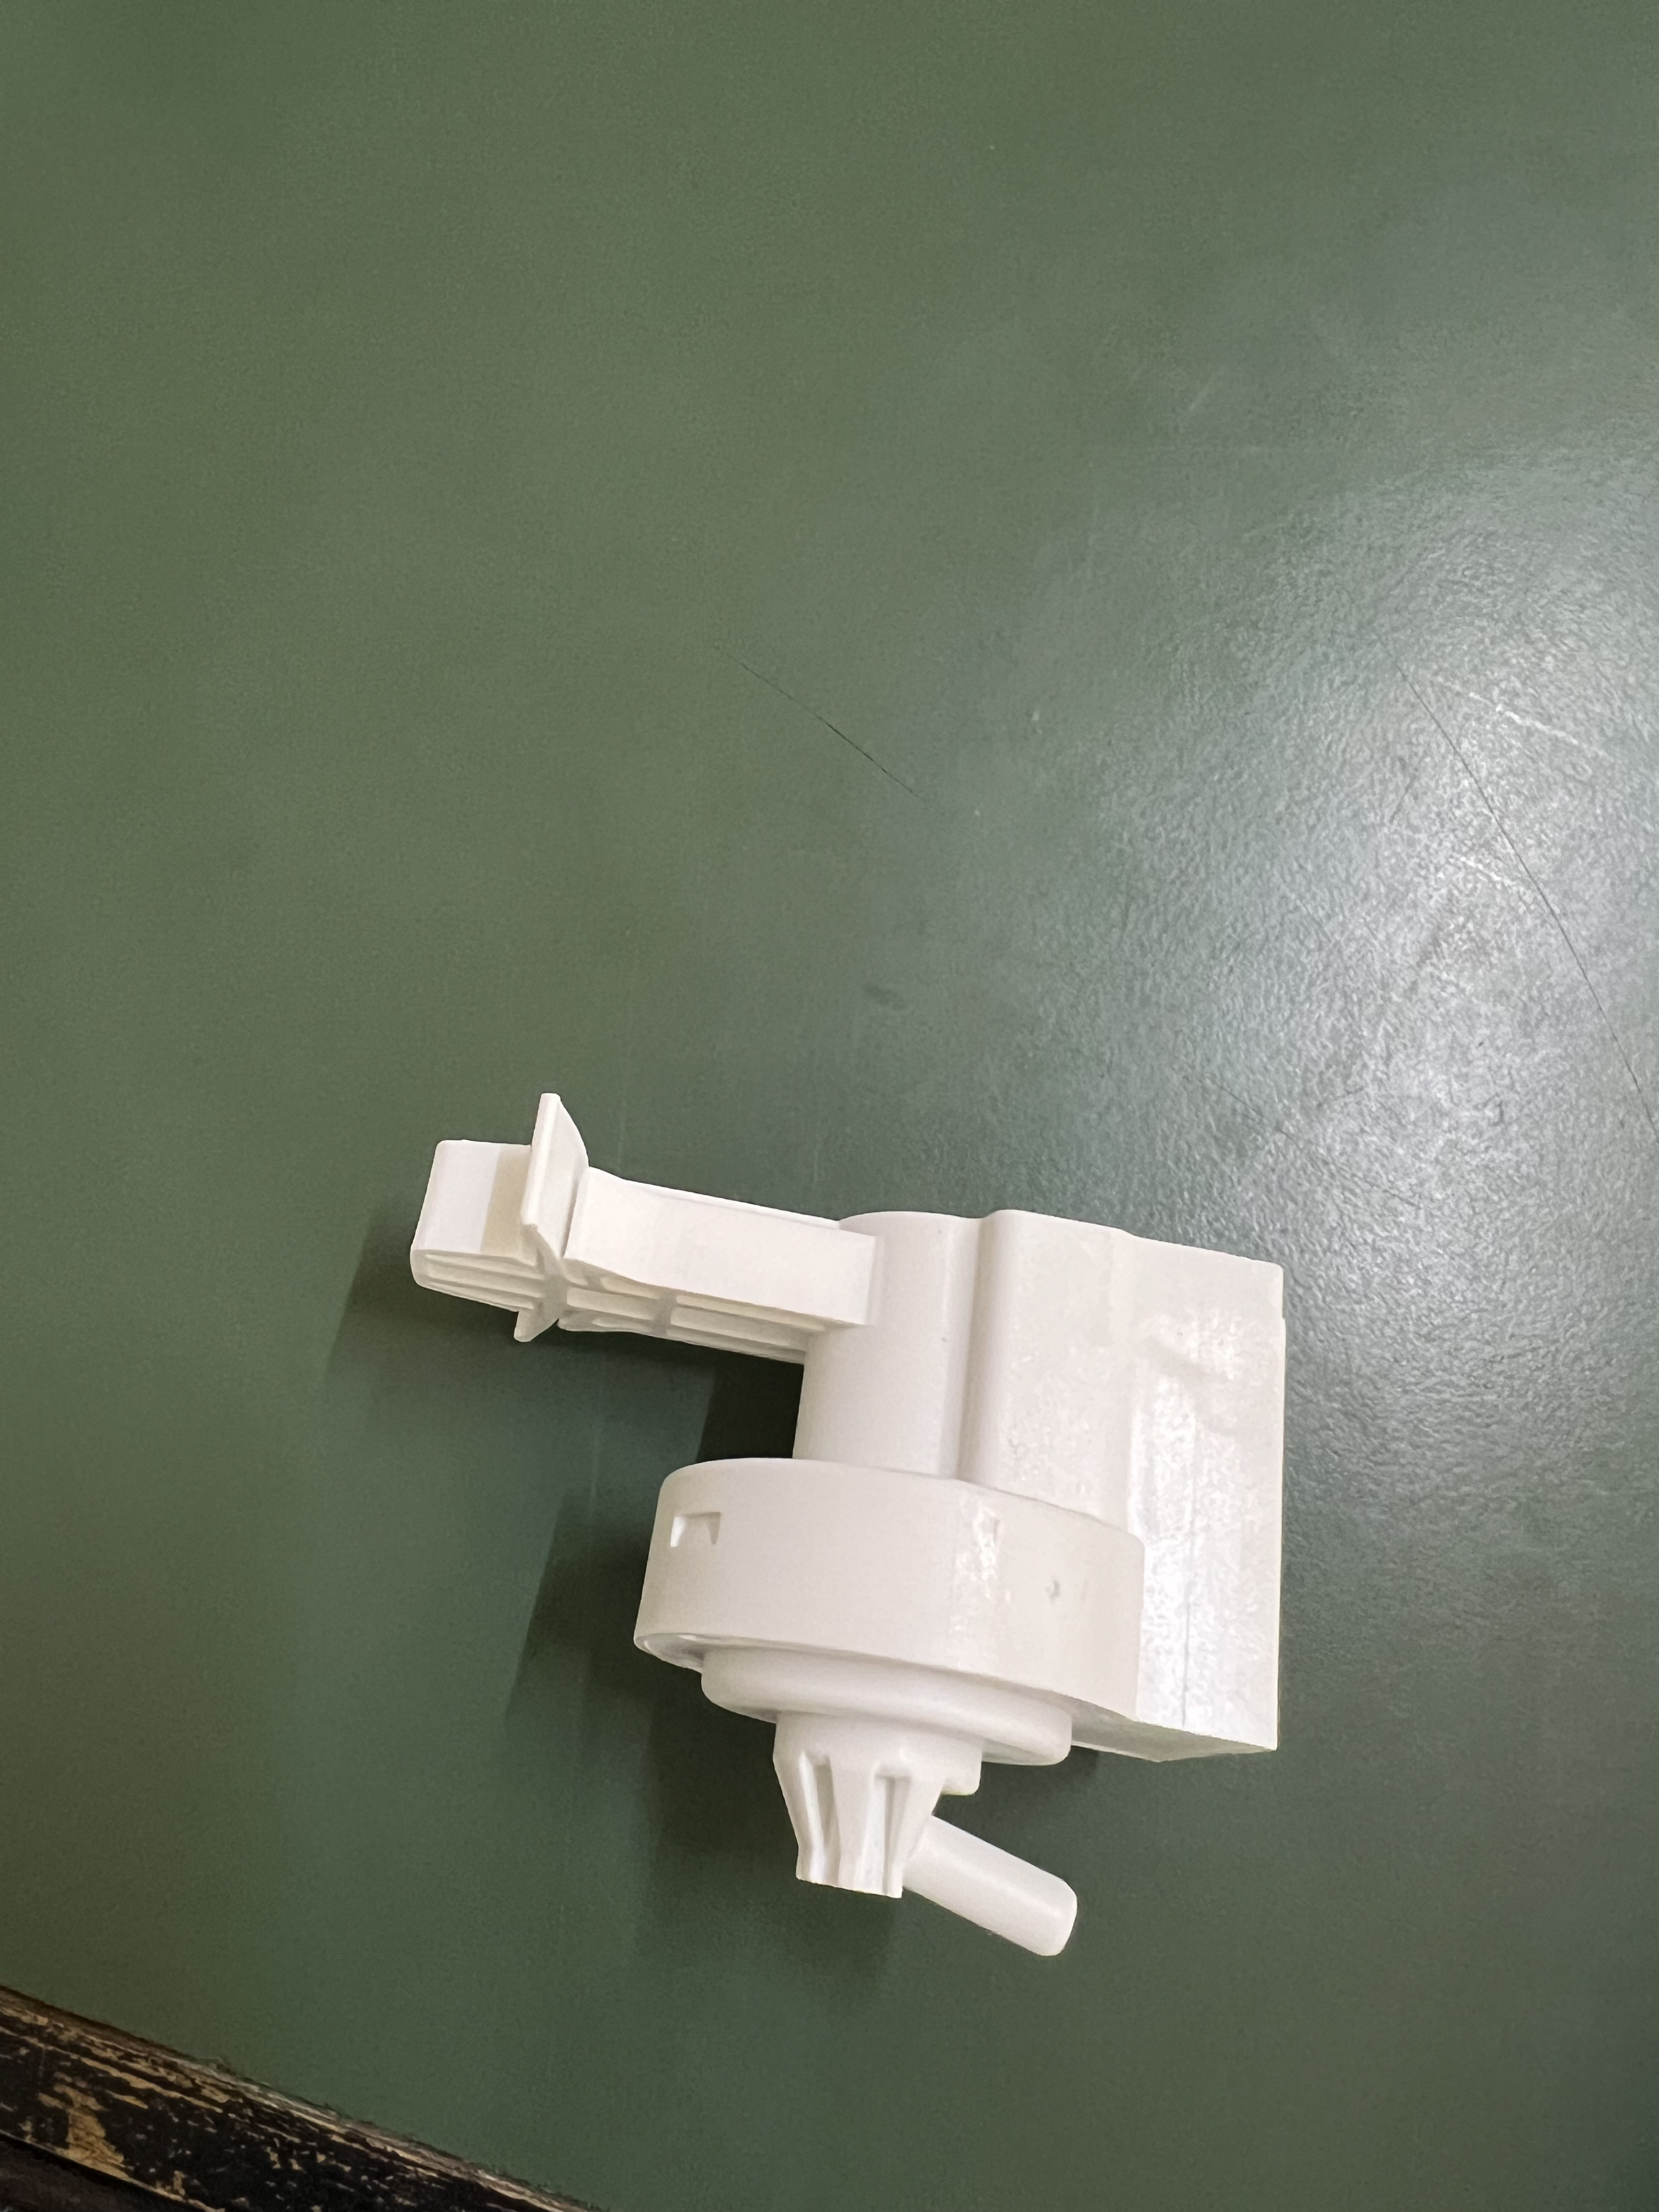pressure_switch_1: (301, 1103, 1304, 1963)
